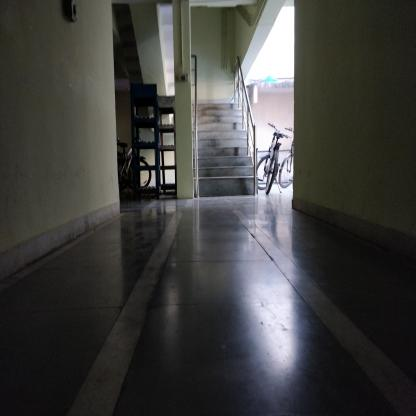stairs: (201, 103, 238, 201)
